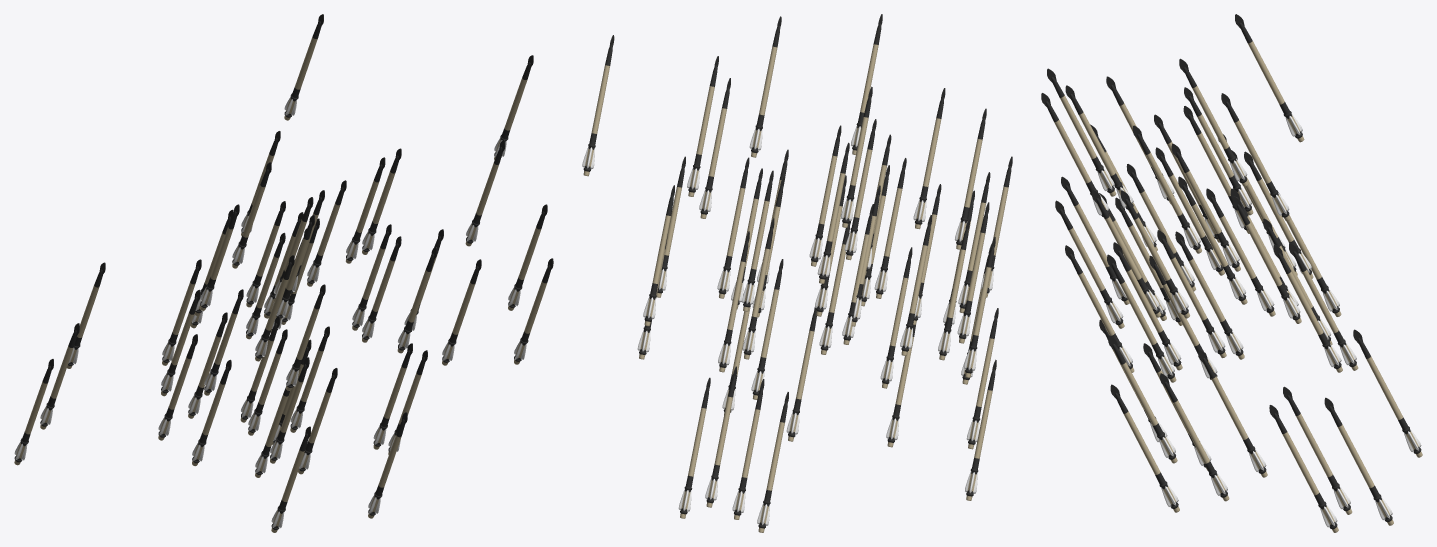
3 renders of one model, left to right at view 1: azimuth 30°, elevation 25°; view 2: azimuth 150°, elevation 25°; view 3: azimuth 270°, elevation 25°, orthographic. The views are drawn at different scales.
Parts seen in each view (by area): view 1: B4; view 2: B4; view 3: B4.
Boxes of the visible parts, left/top/right/bottom form: B4: left=14, top=14, right=553, bottom=532; B4: left=582, top=14, right=1012, bottom=532; B4: left=1041, top=14, right=1422, bottom=532.
Size of the model in its own units: 1.24 by 1.3 by 0.8926.
